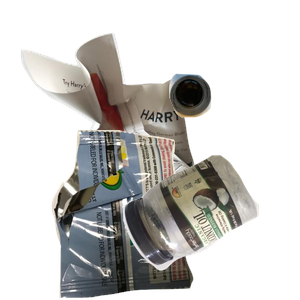glass: (166, 71, 300, 181)
paper: (18, 30, 213, 210)
plastic: (120, 152, 300, 300)
trash: (49, 130, 235, 300)
